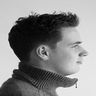ear: (30, 41, 54, 66)
